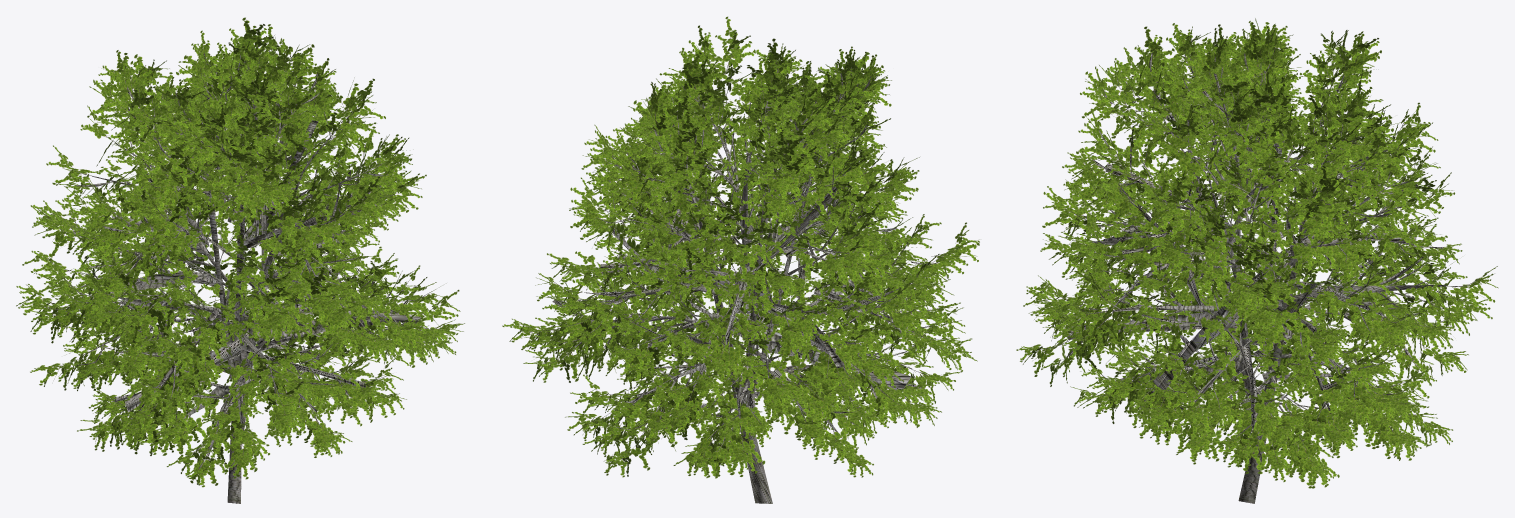
The model's file is tree_maple.glb.
3 views of the same model, side by side, from view 1: azimuth 30°, elevation 25°; view 2: azimuth 150°, elevation 25°; view 3: azimuth 270°, elevation 25° (orthographic). The views are drawn at different scales.
Visible parts, largest first — view 1: leaves, tree; view 2: leaves, tree; view 3: leaves, tree.
Boxes of the visible parts, x1,y1,x2,y2 form: leaves: (16, 17, 464, 487); tree: (40, 36, 438, 503); leaves: (502, 16, 979, 478); tree: (523, 46, 961, 503); leaves: (1016, 18, 1498, 488); tree: (1039, 39, 1480, 503).
Size of the model in its own units: 8.27 by 9.13 by 8.57.
Materials: 2 (2 with a texture image).
